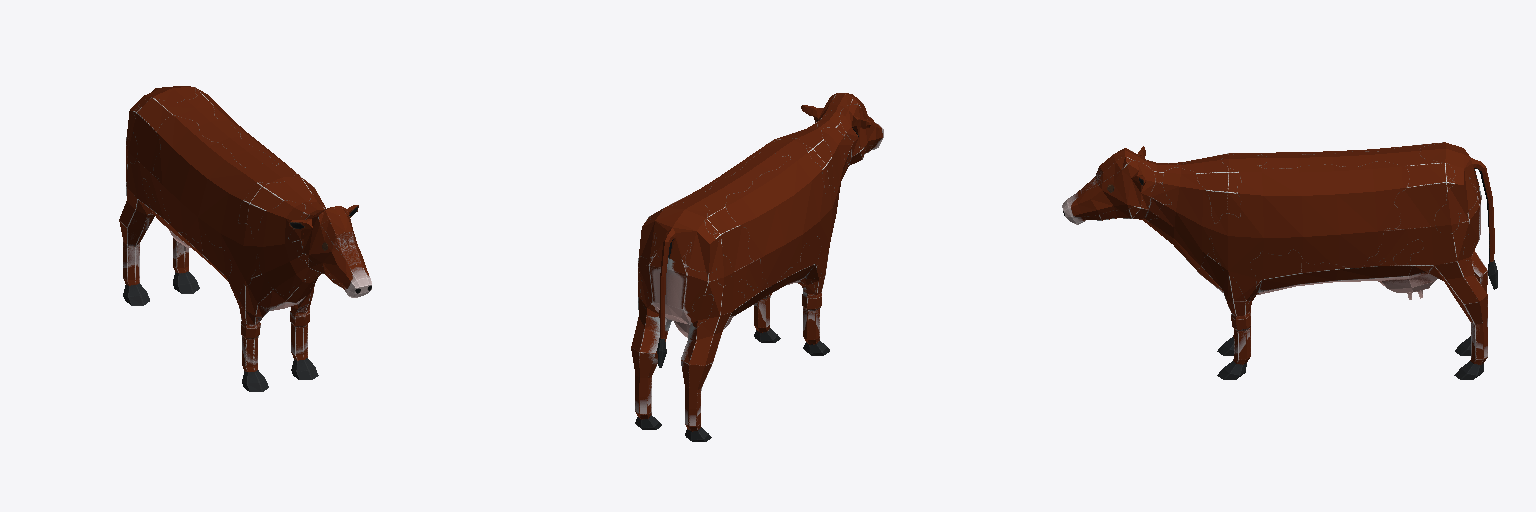
The picture shows the model from 3 angles: view 1: azimuth 30°, elevation 25°; view 2: azimuth 150°, elevation 25°; view 3: azimuth 270°, elevation 25°; orthographic projection.
Parts seen in each view (by area): view 1: Cow_mesh; view 2: Cow_mesh; view 3: Cow_mesh.
Boxes of the visible parts, x1,y1,x2,y2 form: Cow_mesh: [119, 86, 371, 391]; Cow_mesh: [631, 93, 883, 441]; Cow_mesh: [1062, 142, 1497, 379].
Bounding box in the file's own units: 3.36 × 7.42 × 13.65.
1 materials, 1 textured.